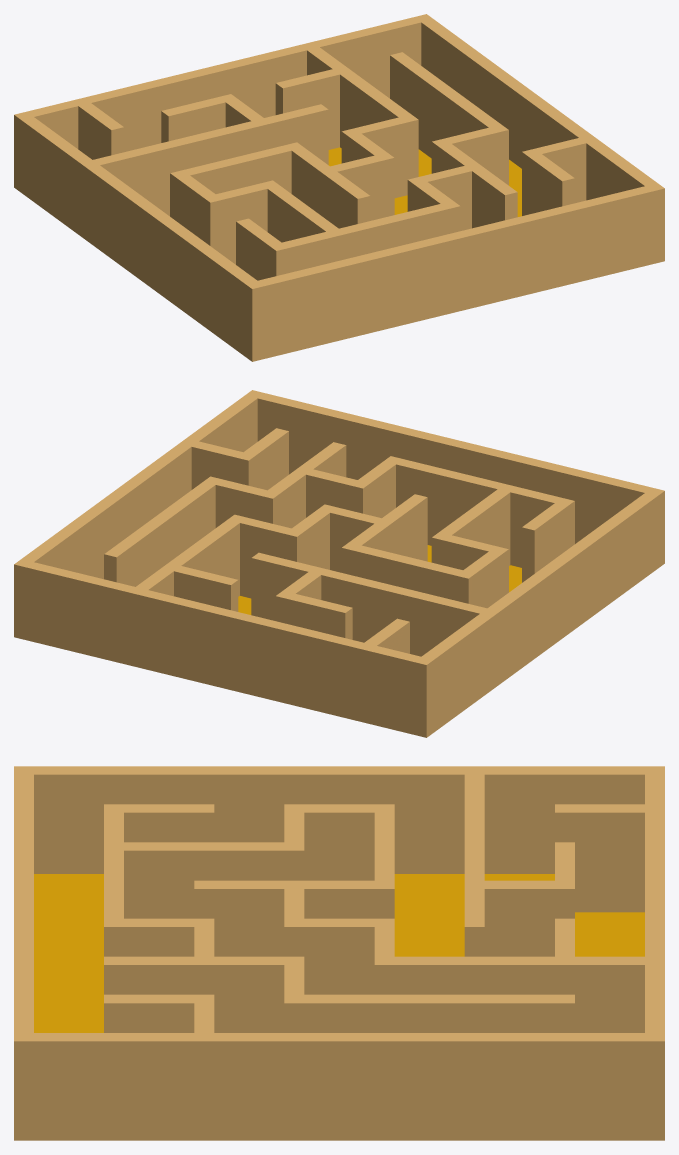
File: Level2Ground.FBX
The picture shows the model from 3 angles, top to bottom: view 1: azimuth 30°, elevation 25°; view 2: azimuth 150°, elevation 25°; view 3: azimuth 270°, elevation 25°; orthographic projection. The views are drawn at different scales.
Parts seen in each view (by area): view 1: pPlane2; view 2: pPlane2; view 3: pPlane2.
Boxes of the visible parts, left/top/right/bottom form: pPlane2: left=14, top=14, right=664, bottom=361; pPlane2: left=14, top=390, right=664, bottom=737; pPlane2: left=14, top=766, right=664, bottom=1140.
Size of the model in its own units: 166 by 28 by 166.
